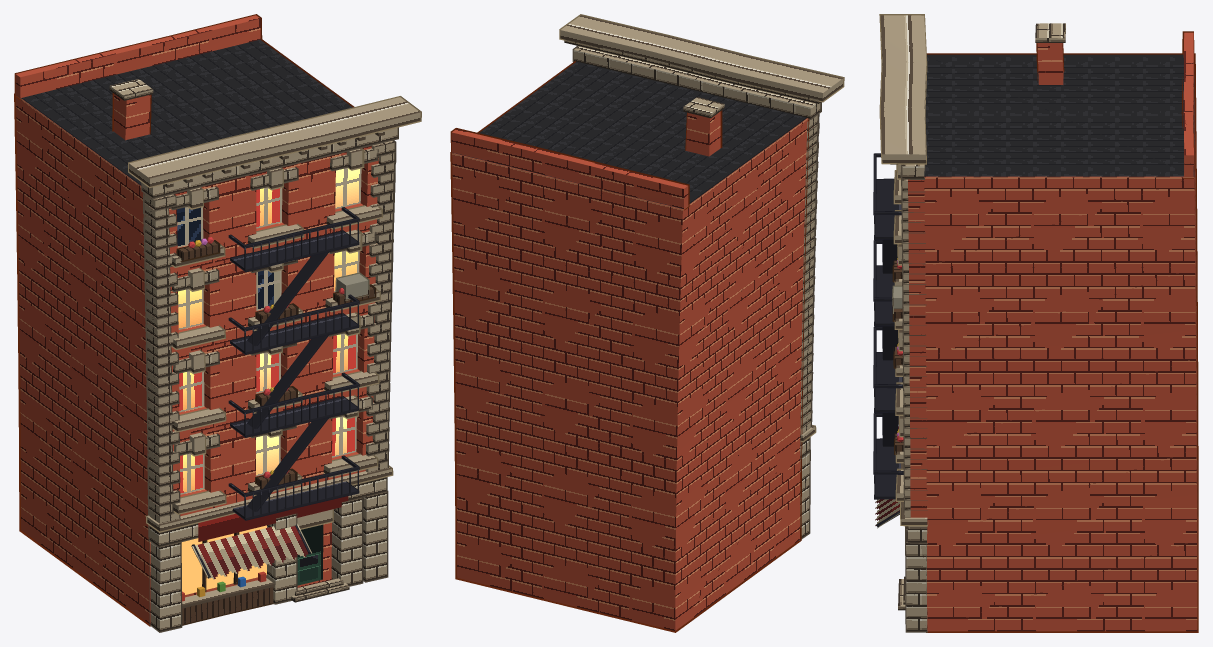
Rendered from Haus_pizza_1.glb.
The picture shows the model from 3 angles, left to right: view 1: azimuth 30°, elevation 25°; view 2: azimuth 150°, elevation 25°; view 3: azimuth 270°, elevation 25°; orthographic projection. The views are drawn at different scales.
Parts seen in each view (by area): view 1: Haus_pizza_1; view 2: Haus_pizza_1; view 3: Haus_pizza_1.
Part boxes in pixels (x1=…): Haus_pizza_1: x1=14, y1=14, x2=421, y2=632; Haus_pizza_1: x1=450, y1=14, x2=844, y2=632; Haus_pizza_1: x1=873, y1=14, x2=1198, y2=632.
Size of the model in its own units: 12.1 by 20.51 by 11.92.
Materials: 27 (11 with a texture image).
